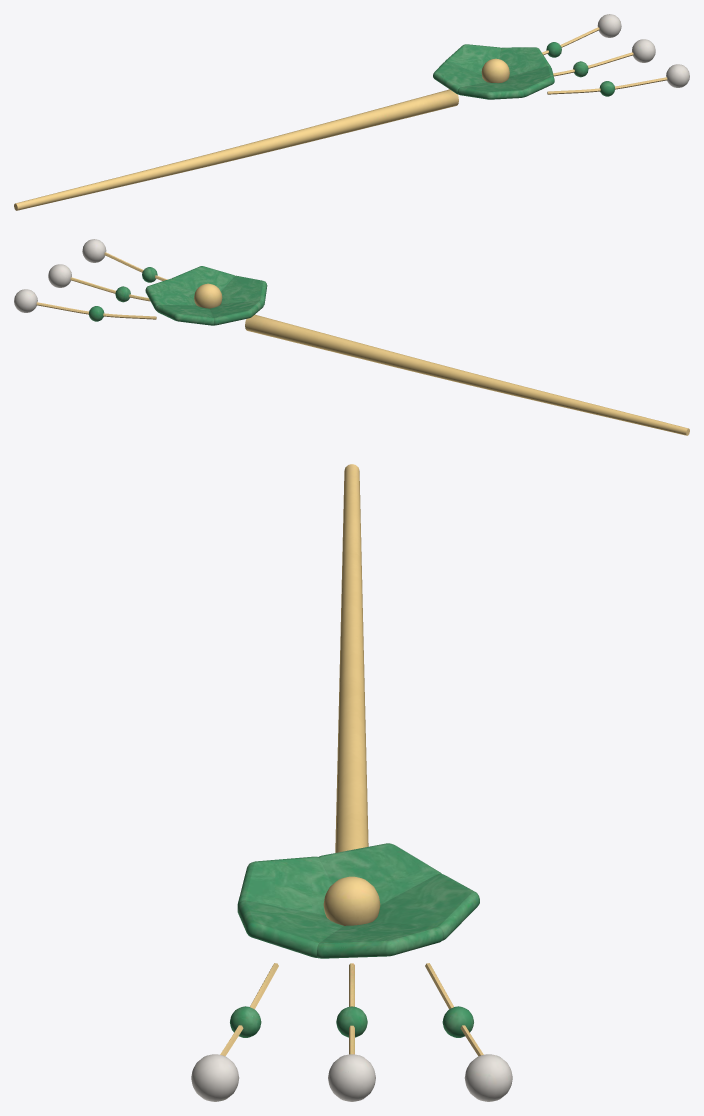
Rendered from buyao_hairpin.glb.
3 renders of one model, top to bottom at view 1: azimuth 30°, elevation 25°; view 2: azimuth 150°, elevation 25°; view 3: azimuth 270°, elevation 25°, orthographic. The views are drawn at different scales.
Parts seen in each view (by area): view 1: buyao_hairpin; view 2: buyao_hairpin; view 3: buyao_hairpin.
Part boxes in pixels (bbox=[...]): buyao_hairpin: bbox=[14, 14, 689, 210]; buyao_hairpin: bbox=[14, 239, 689, 435]; buyao_hairpin: bbox=[191, 464, 512, 1101].
Bounding box in the file's own units: 0.2328 × 0.0133 × 0.0508.
1 material, 1 textured.
